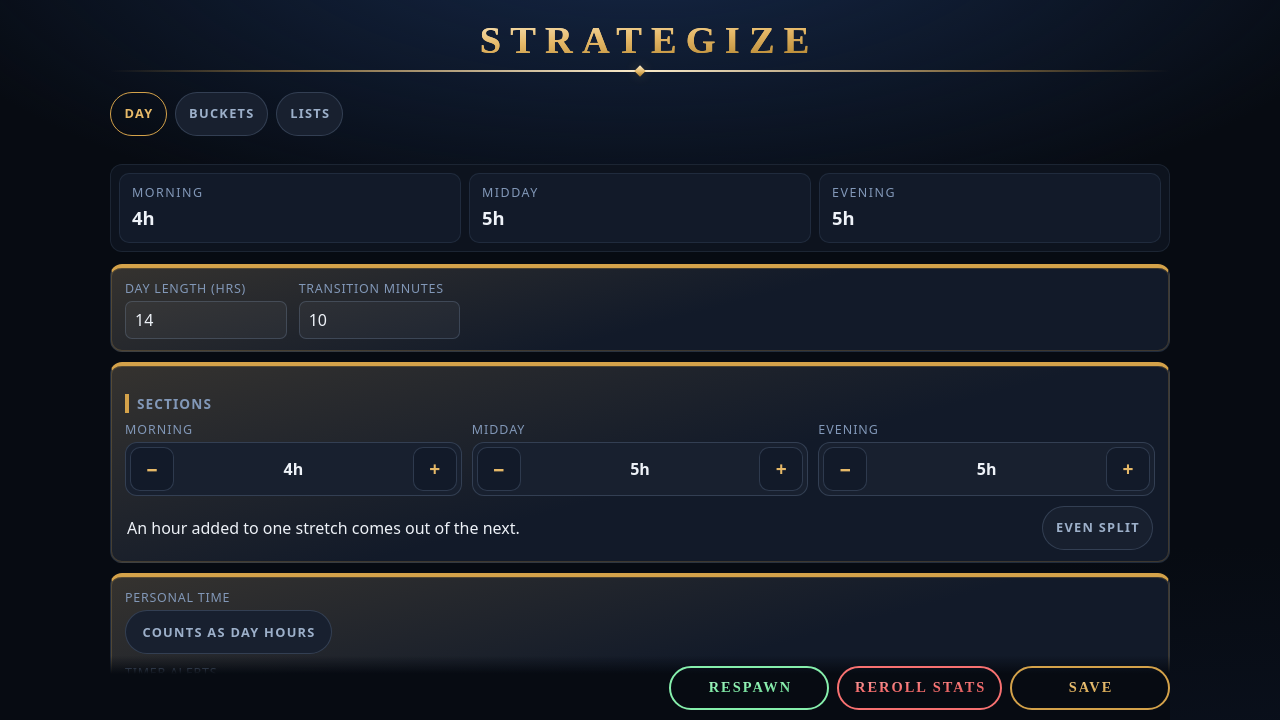
the time of day on a list item › states the one section a single-section bucket runs in
Click the button "Lists" at x=310, y=114, box 276,92 -> 344,136
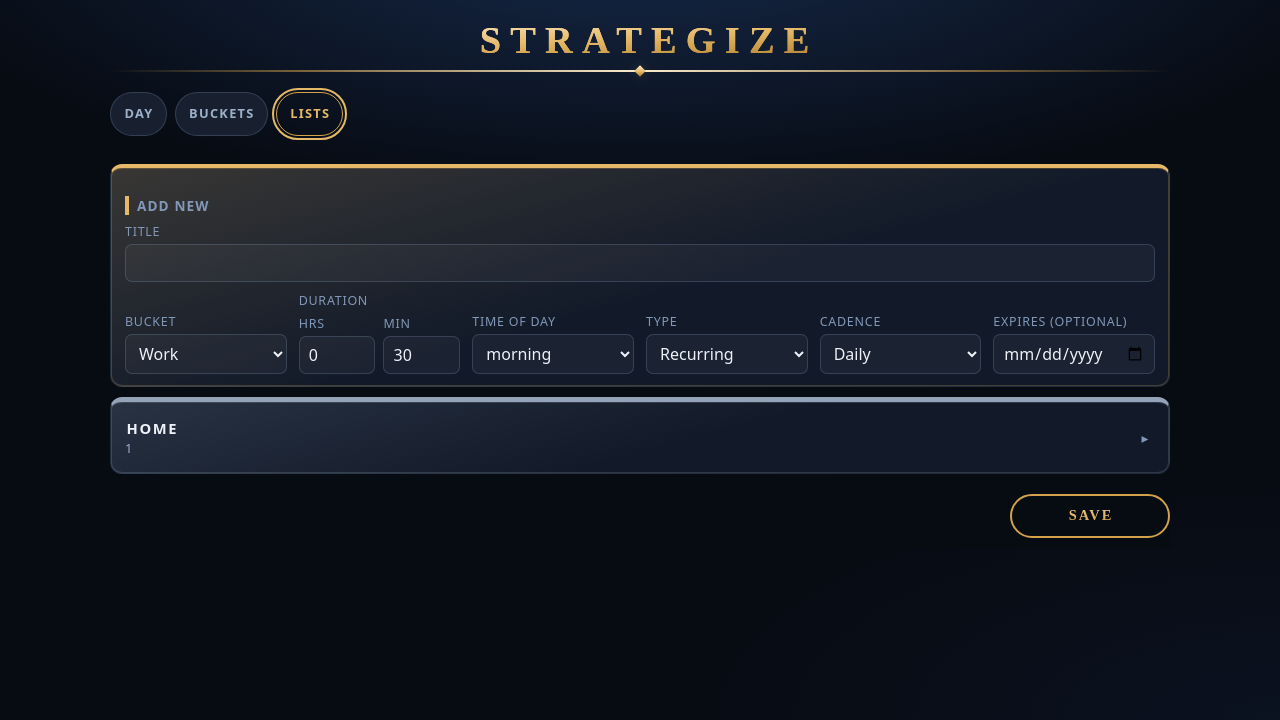
Select "Home" in the dropdown named "bucketId" at x=206, y=354, box 125,334 -> 287,374
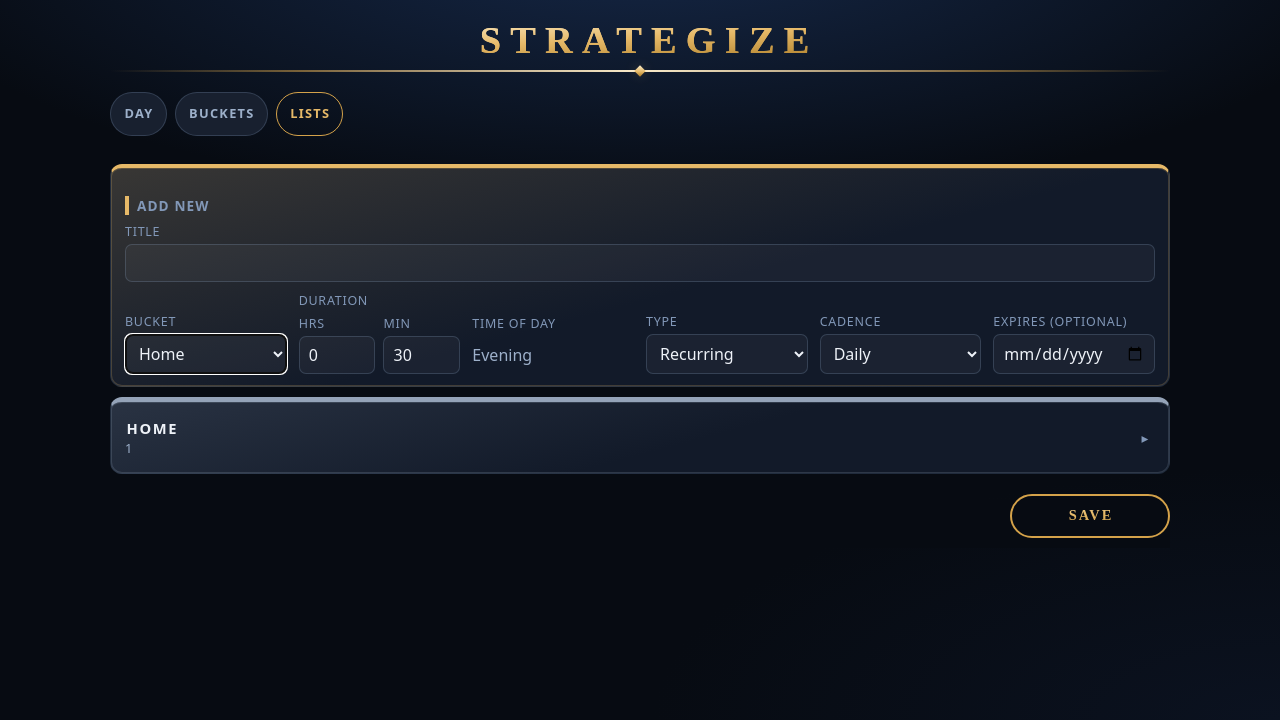
Result: the text with class "field-static" reads "evening" at 472,344 -> 532,366
